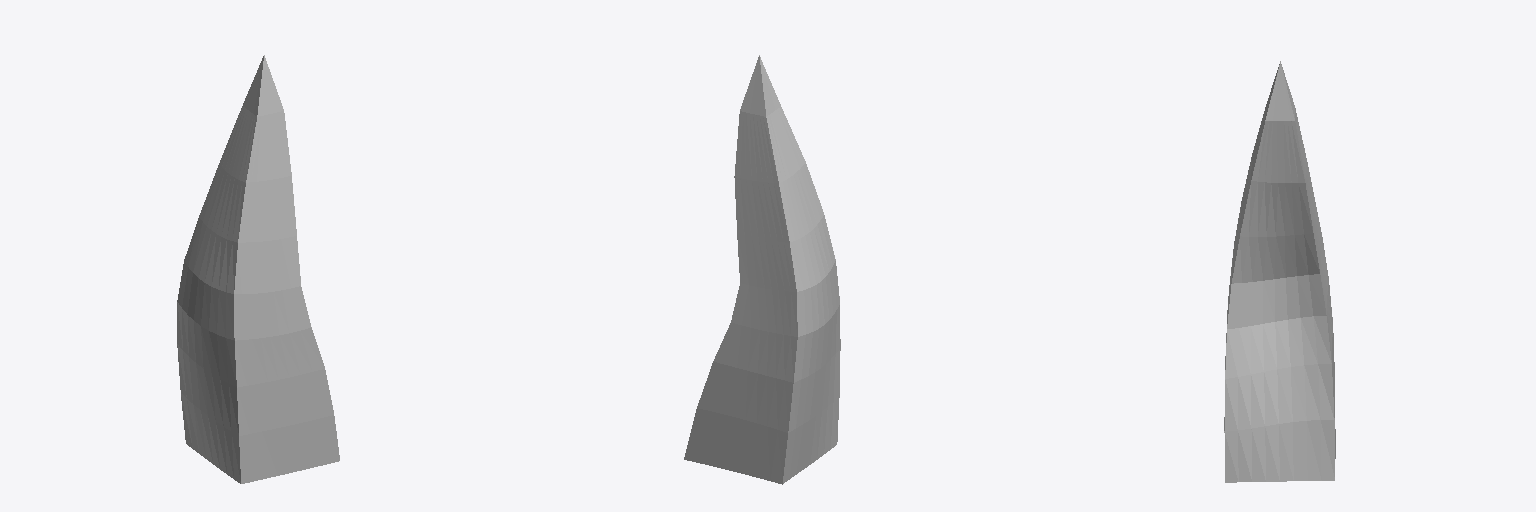
The model's file is SubTool-7-12618708.OBJ.
The picture shows the model from 3 angles: view 1: azimuth 30°, elevation 25°; view 2: azimuth 150°, elevation 25°; view 3: azimuth 270°, elevation 25°; orthographic projection.
Visible parts, largest first — view 1: Group28359; view 2: Group28359; view 3: Group28359.
Part boxes in pixels (left/top/right/bottom): Group28359: left=177, top=55, right=339, bottom=483; Group28359: left=684, top=55, right=840, bottom=484; Group28359: left=1224, top=61, right=1335, bottom=482.
Bounding box in the file's own units: 0.5503 × 1.84 × 0.4658.